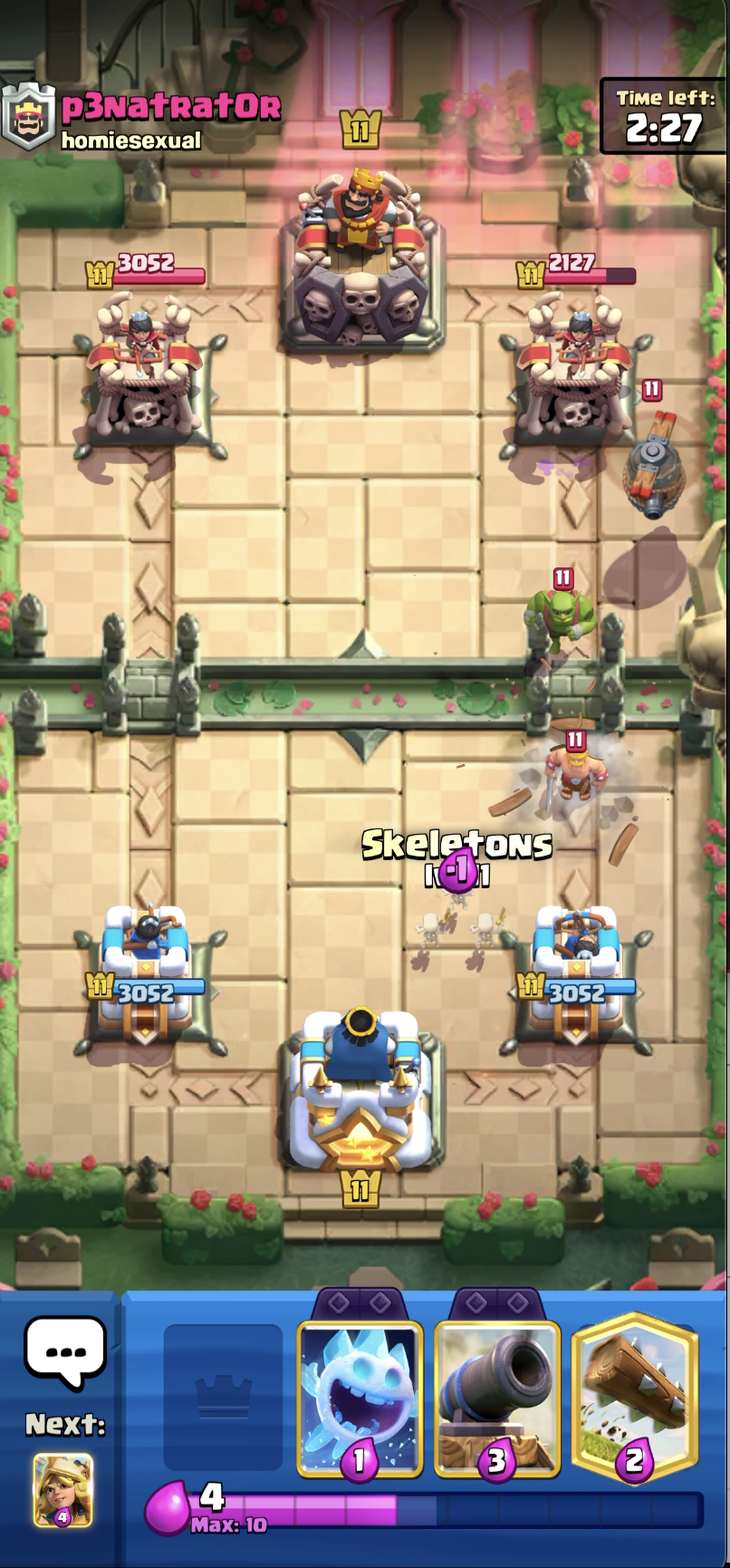barbarian: (525, 725, 632, 823)
brawler: (507, 559, 615, 670)
flying-machine: (625, 384, 688, 521)
